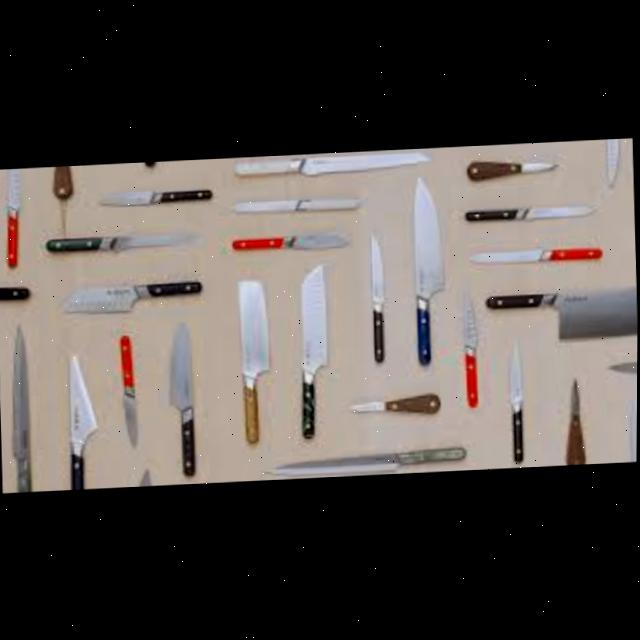Knife: (487, 285, 638, 342), (412, 176, 451, 366), (264, 447, 470, 477), (239, 279, 275, 443), (299, 264, 333, 437), (234, 149, 435, 178), (120, 333, 153, 487), (67, 354, 103, 490), (61, 280, 203, 314), (8, 324, 35, 493), (170, 320, 198, 476), (46, 231, 203, 253), (467, 204, 602, 225), (470, 247, 605, 266), (233, 230, 353, 251), (121, 334, 142, 448), (371, 230, 389, 361), (236, 196, 366, 214), (350, 393, 444, 417), (102, 186, 214, 205), (509, 339, 526, 463), (468, 158, 562, 180), (566, 379, 589, 467), (465, 295, 482, 407), (6, 169, 24, 266), (54, 166, 77, 237), (604, 140, 624, 188), (54, 166, 74, 198), (137, 468, 154, 487)
